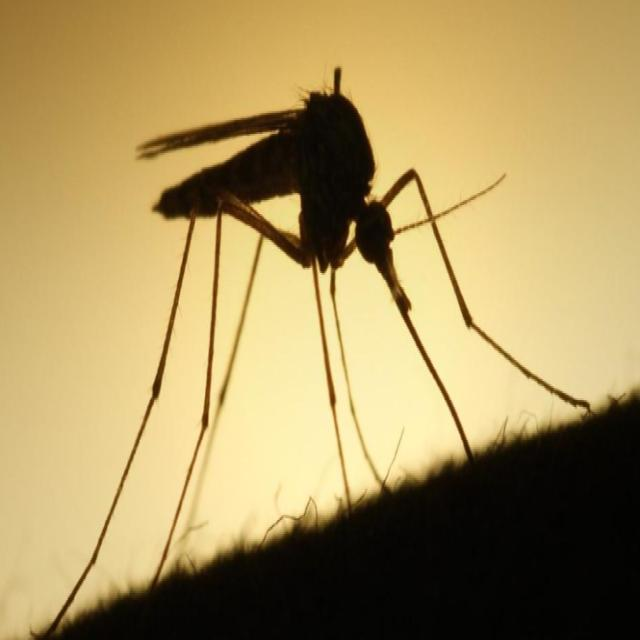Mosquito: (108, 70, 518, 556)
